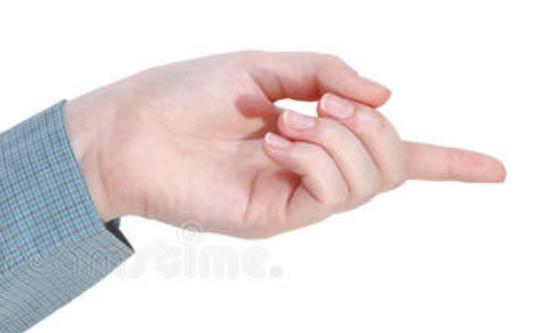up: (105, 45, 508, 242)
